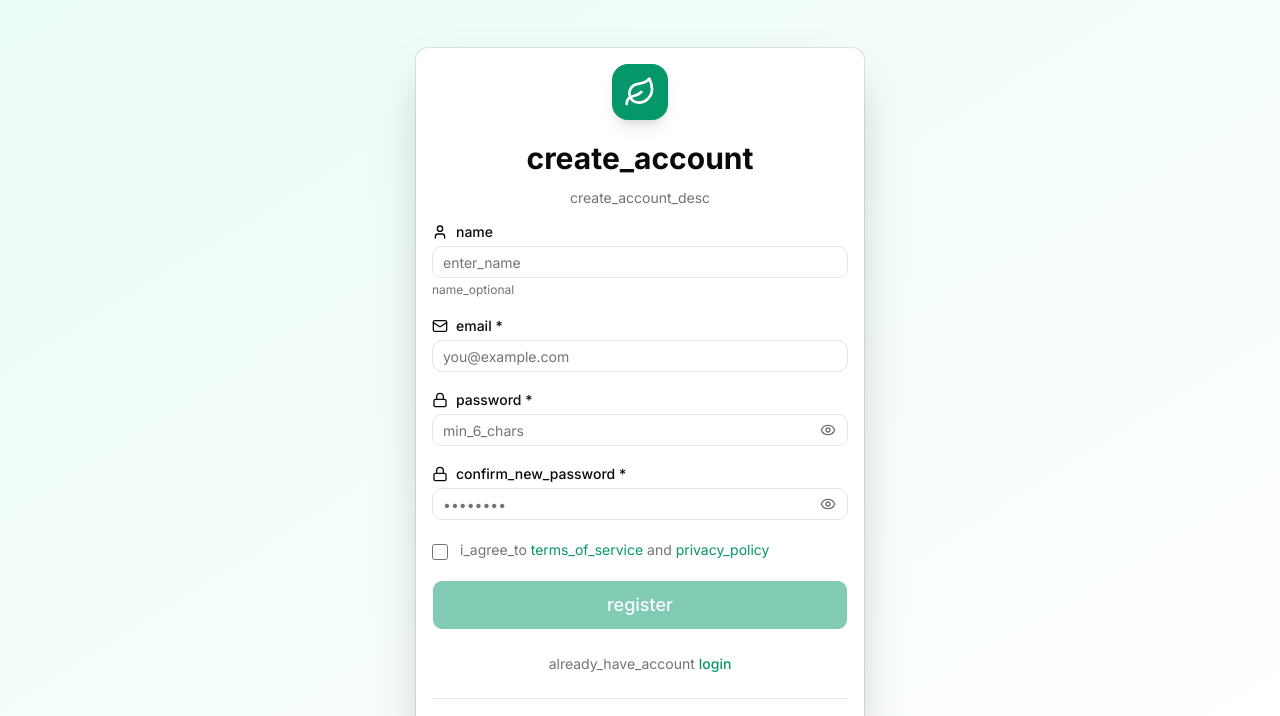
Test: RegisterPage › registers successfully
Expected: the heading "create_account" is shown, left=526, top=140, right=754, bottom=176
Type "Test User" into the field labelled "name" at (640, 262), box left=432, top=246, right=848, bottom=278
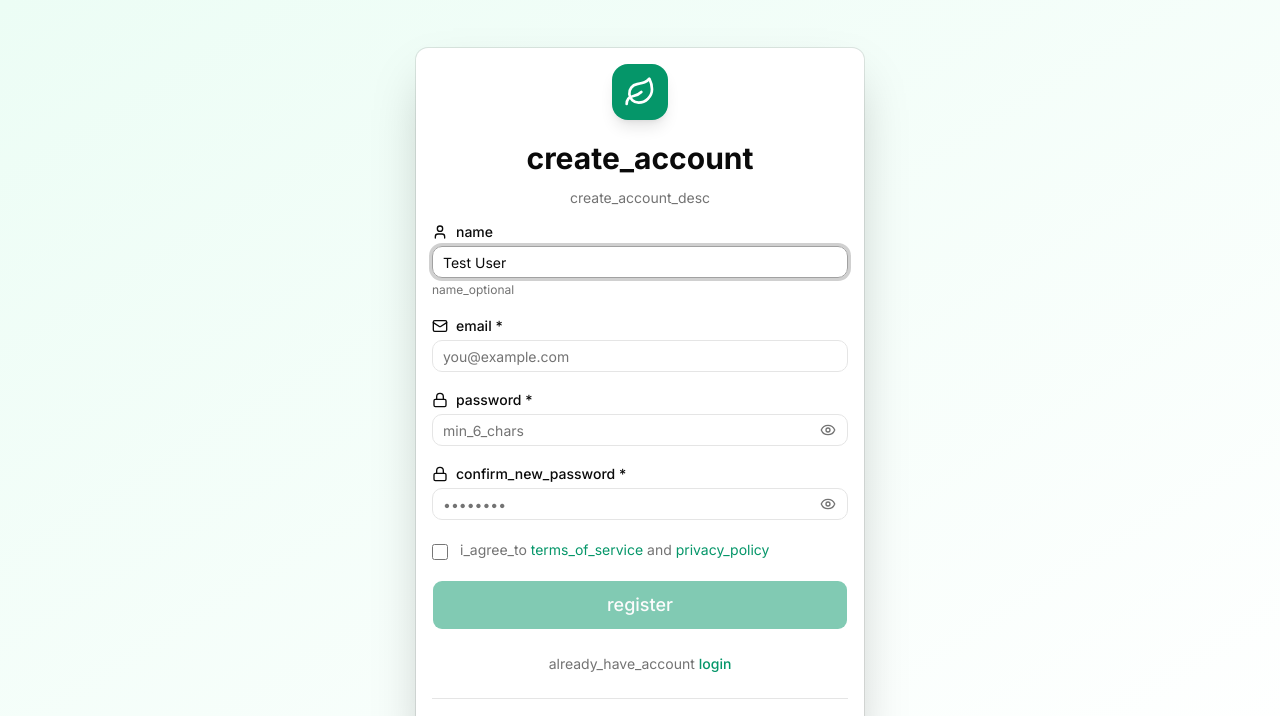
Type "test@example.com" into the field labelled "email" at (640, 356), box left=432, top=340, right=848, bottom=372
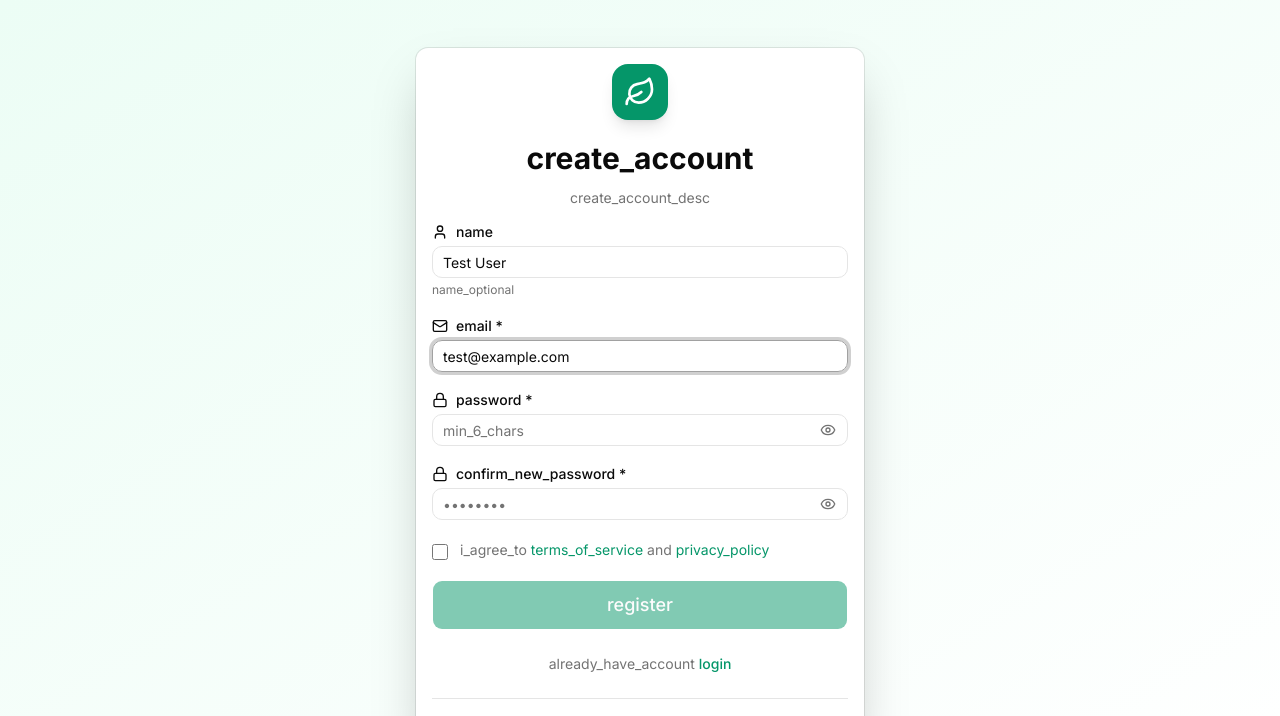
Type "password123" into the password field labelled "password *" at (640, 430), box left=432, top=414, right=848, bottom=446
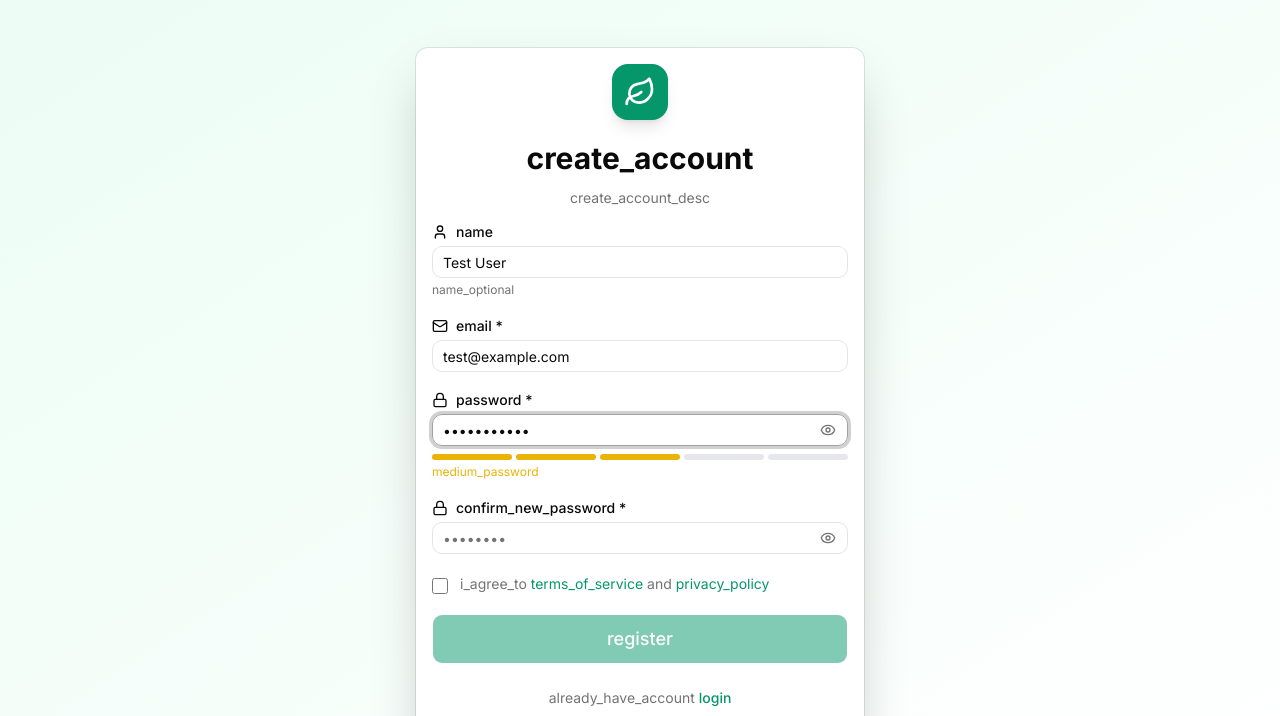
Type "password123" into the password field labelled "confirm_new_password" at (640, 538), box left=432, top=522, right=848, bottom=554
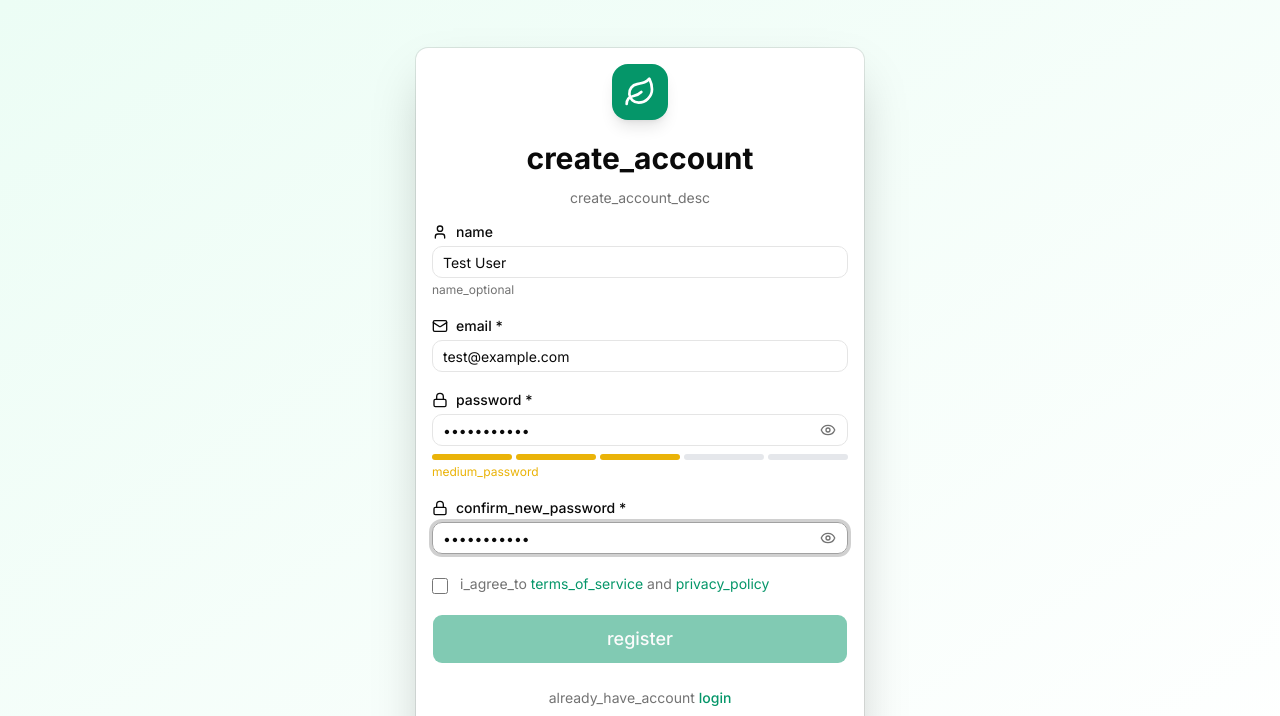
Click the checkbox named "agree_to_terms" at (440, 586), box left=432, top=578, right=448, bottom=594
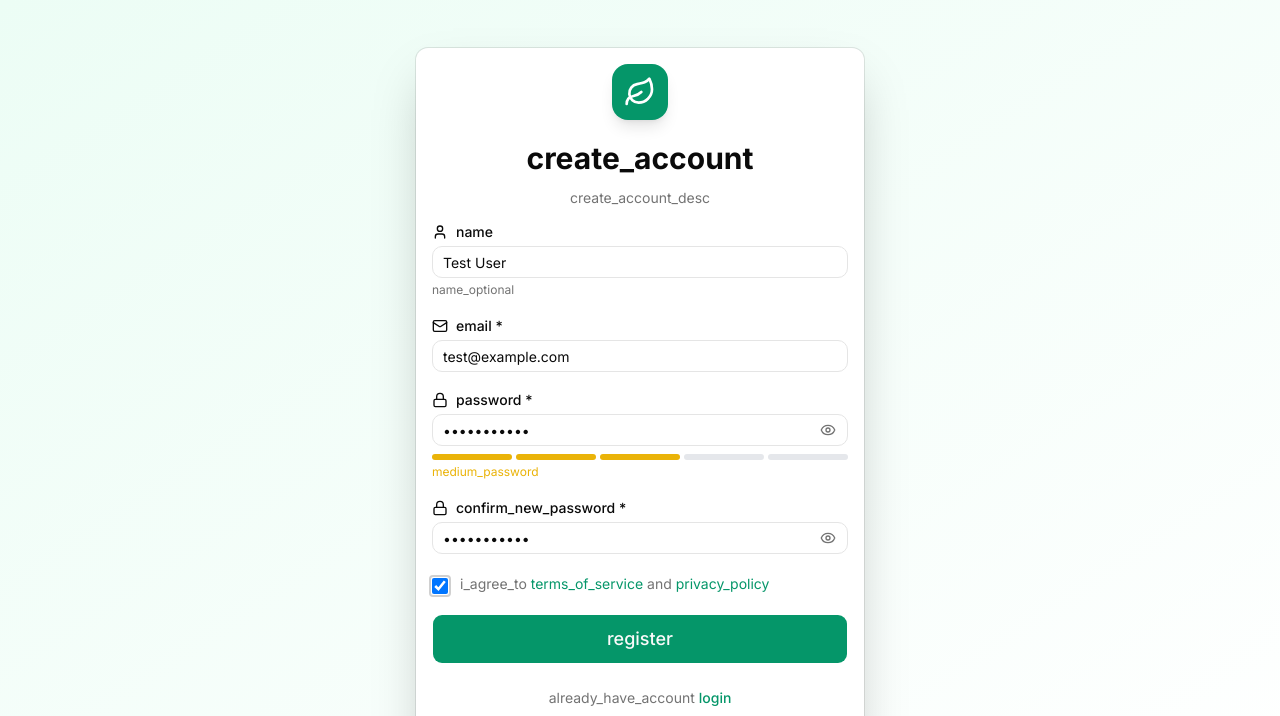
Click the button "register" at (640, 639), box left=432, top=614, right=848, bottom=664
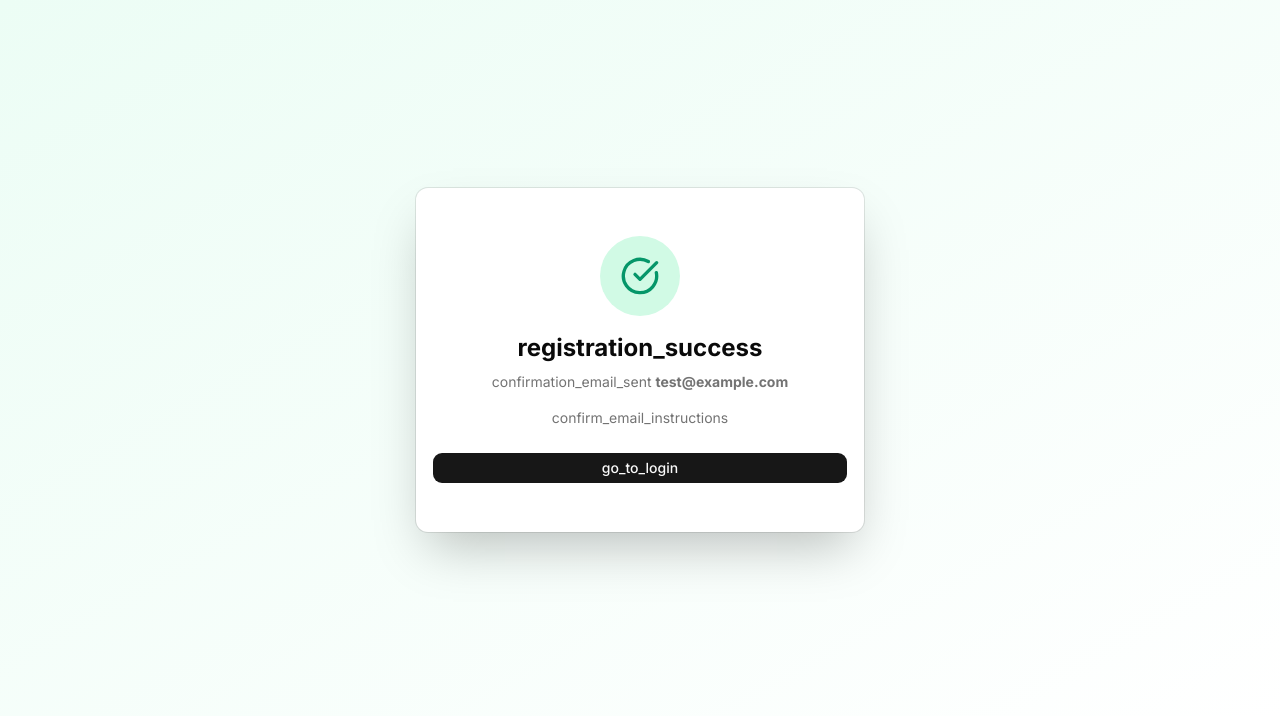
Now the heading "registration_success" is shown, box left=518, top=333, right=762, bottom=362
